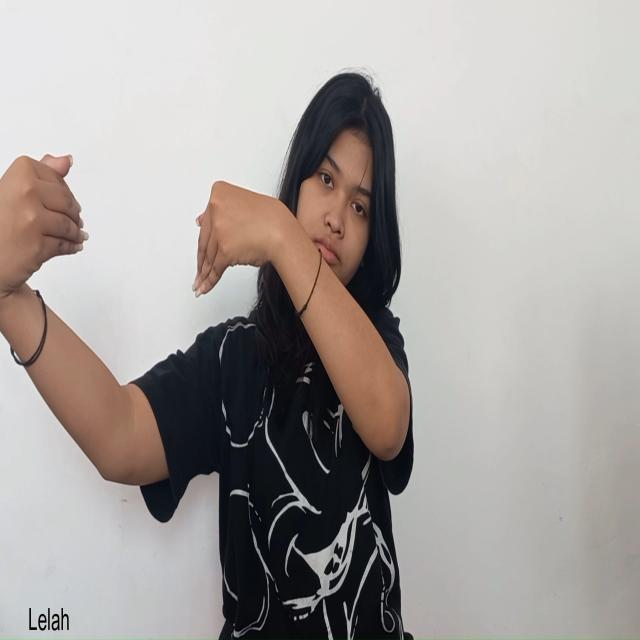Lelah -BISINDO-: (0, 150, 287, 312)
